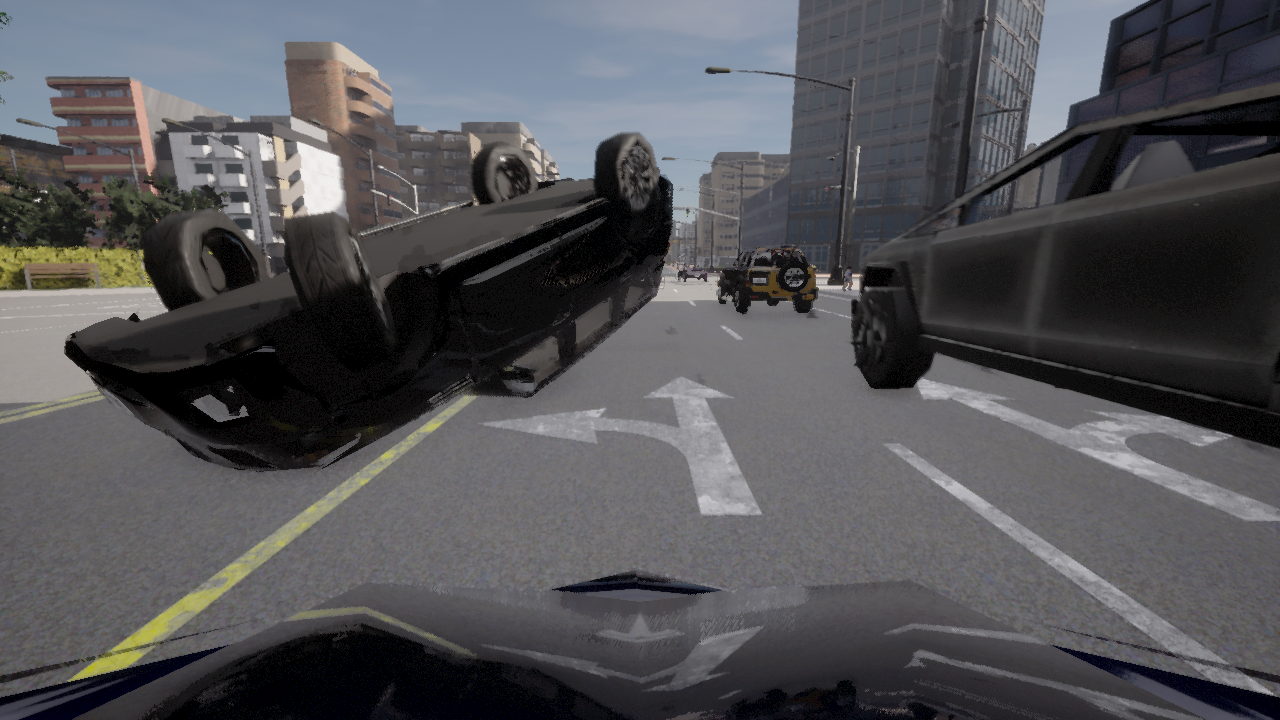cyclist: (65, 132, 674, 475), (0, 569, 1279, 719), (846, 82, 1279, 448), (716, 244, 817, 313), (677, 261, 707, 282)
pedestrian: (843, 267, 851, 289)
